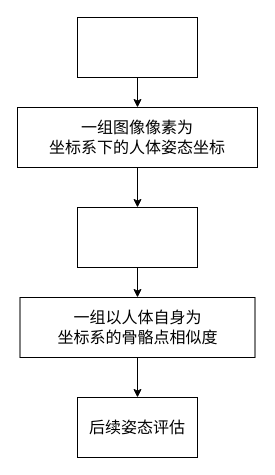
This 275x475 diagram has some shape labels left out. Each missing label, with the centre of its shape:
"模型估计" belongs at [137,47].
"相似度计算" belongs at [137,237].
